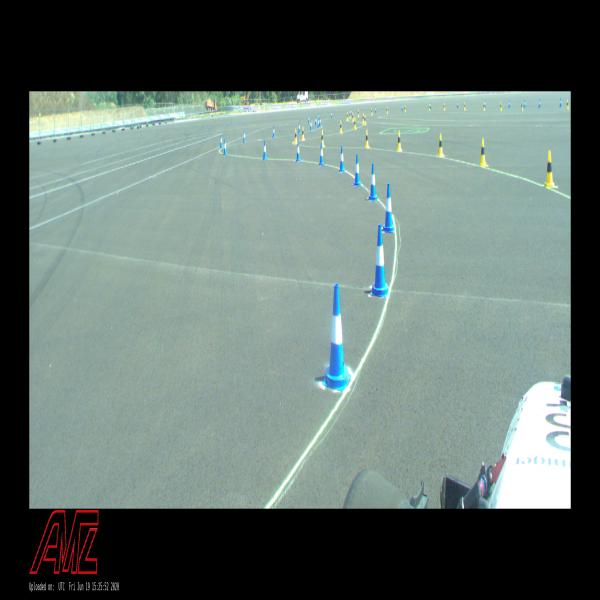blue_cone: (322, 284, 351, 392), (370, 224, 390, 299), (383, 183, 395, 233), (368, 163, 378, 202), (352, 155, 361, 187), (339, 146, 345, 172), (262, 140, 268, 160), (296, 141, 301, 162), (320, 142, 324, 166), (223, 139, 228, 155), (219, 133, 224, 148), (272, 126, 276, 138), (243, 130, 246, 144), (298, 122, 301, 134), (538, 98, 541, 108), (559, 98, 562, 107), (317, 119, 320, 128), (310, 119, 312, 131), (330, 111, 333, 118), (308, 115, 310, 124), (315, 116, 317, 125), (508, 100, 510, 108), (401, 104, 403, 111), (524, 100, 526, 107), (320, 117, 321, 126), (457, 101, 458, 108), (375, 106, 376, 113), (351, 109, 352, 115)
yellow_cone: (544, 150, 555, 188), (479, 138, 487, 167), (437, 134, 444, 157), (397, 130, 402, 152), (365, 130, 370, 148), (294, 128, 297, 143), (302, 127, 305, 140), (322, 129, 324, 147), (566, 99, 569, 110), (340, 120, 342, 134), (346, 112, 349, 121), (357, 110, 360, 118), (354, 118, 356, 129), (364, 114, 366, 125), (346, 112, 348, 121), (500, 102, 502, 111), (521, 102, 523, 111), (362, 113, 364, 122), (386, 106, 388, 114), (444, 103, 446, 111), (464, 102, 466, 110), (349, 111, 351, 119), (352, 113, 354, 121), (428, 103, 430, 111), (483, 102, 485, 110), (404, 105, 406, 112), (371, 108, 372, 115)
